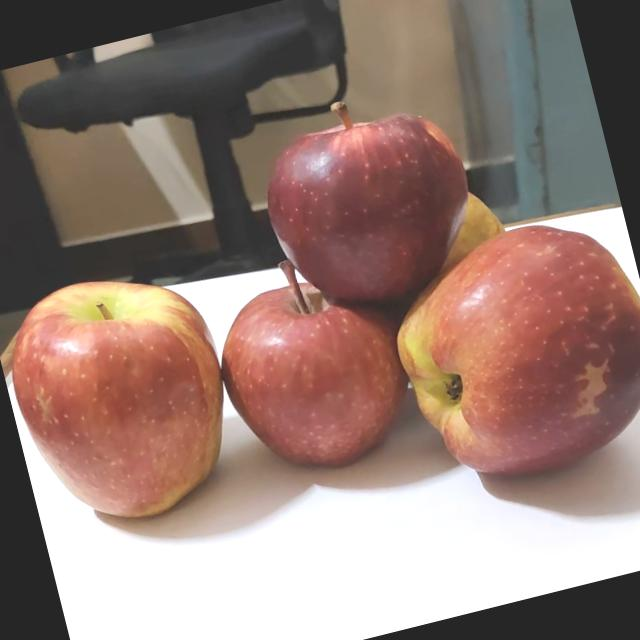apple: (376, 201, 640, 510), (0, 248, 262, 536), (248, 66, 504, 325), (203, 232, 438, 490), (411, 173, 528, 281)
